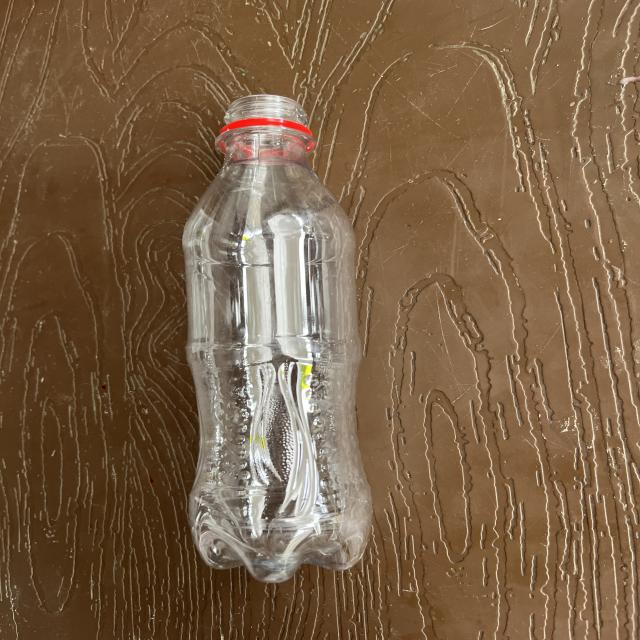PET_With_Cap: (176, 89, 380, 586)
